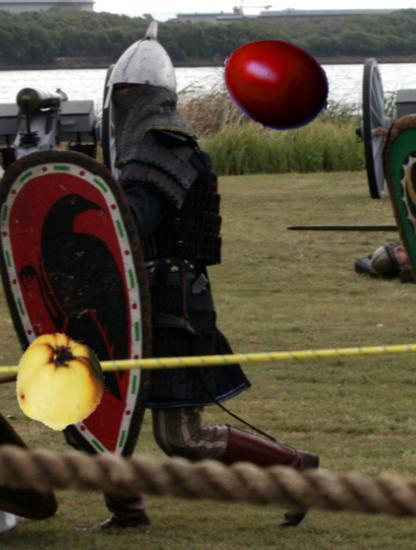Quince: (11, 333, 109, 431)
Tamarillo: (220, 27, 334, 141)
